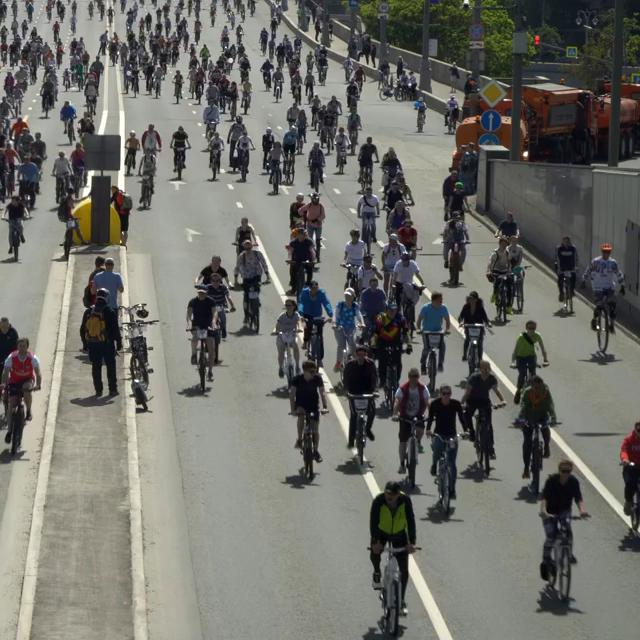bicycle: (366, 541, 421, 637), (538, 511, 591, 604), (509, 419, 561, 496), (425, 430, 469, 516), (118, 319, 159, 410), (288, 408, 329, 481), (466, 402, 505, 477), (390, 415, 428, 489), (0, 383, 38, 455), (344, 391, 379, 469), (374, 346, 411, 411), (415, 329, 450, 394), (185, 327, 218, 393), (270, 328, 303, 391), (459, 321, 493, 375), (239, 279, 270, 334), (590, 291, 617, 353), (300, 316, 331, 370), (1, 215, 32, 261), (488, 271, 514, 324), (285, 258, 313, 302), (59, 216, 87, 258), (555, 267, 578, 314), (200, 147, 224, 181), (136, 173, 155, 209), (171, 145, 190, 179)
